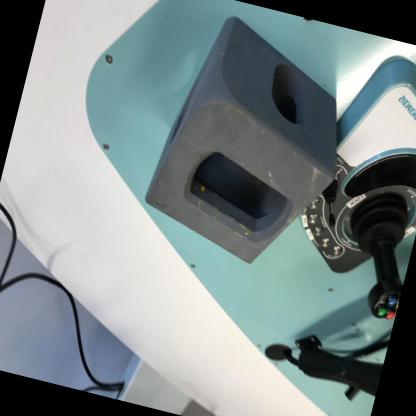CornerCasting: (131, 3, 367, 286)
